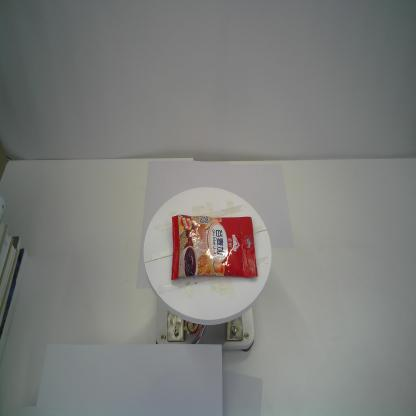Instant Drink: (169, 211, 259, 282)
